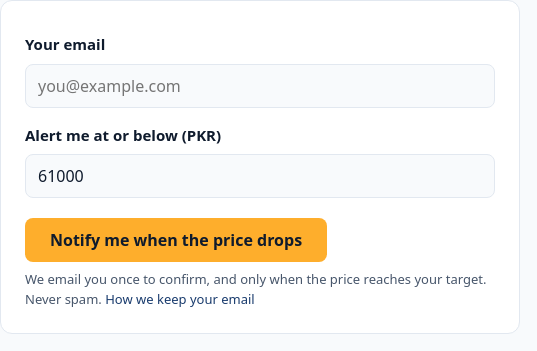
Test case: AlertForm › does not claim an alert is live when the server could not send the confirmation
This screenshot has width=537, height=351.
Type "a@b.co" into the field labelled "Your email" at (260, 86), box [25,64,495,108]
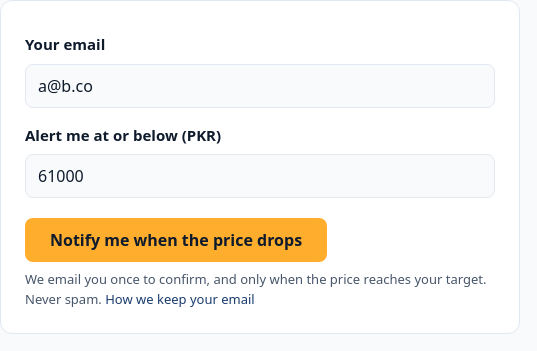
Replace the text in the number field labelled "Alert me at or below (PKR)" with "60000" at (260, 176), box [25,154,495,198]
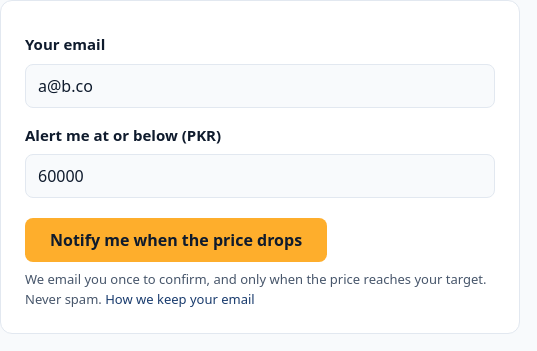
Click the button "Notify me when the price drops" at (176, 240), box [25,218,327,262]
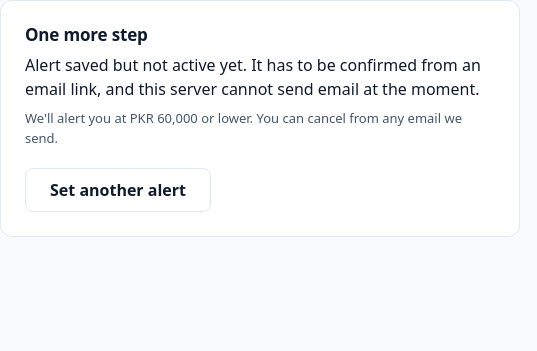
Expected: the message shows "cannot send email", [25,54,481,100]
Expected: the message shows "One more step", [25,23,148,46]
